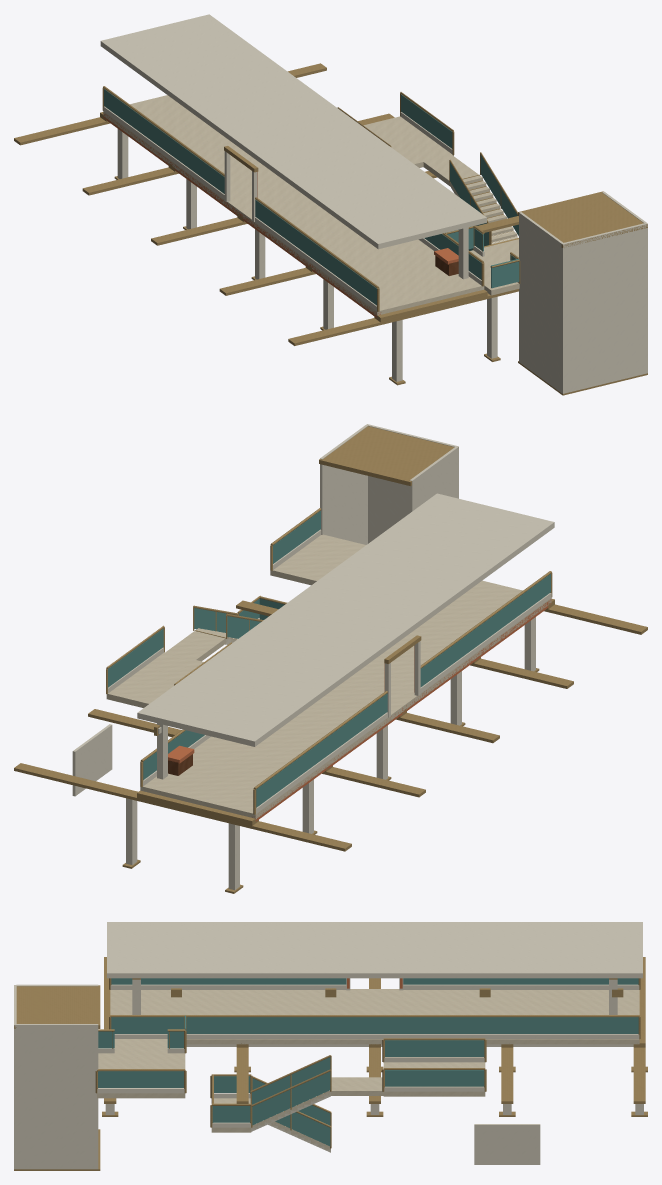
Rendered from AST-TRM-G4-030_aftmid_upper_receiving_r001.glb.
3 views of the same model, one above another, from view 1: azimuth 30°, elevation 25°; view 2: azimuth 150°, elevation 25°; view 3: azimuth 270°, elevation 25° (orthographic). The views are drawn at different scales.
Parts seen in each view (by area): view 1: Aftmid_V2__Canopy_Profiled_Crown, Aftmid_V2__Boarding_Island_24m, Aftmid_V2__BoardingLift_Rear, Aftmid_V2__BoardingLift_HousingSide_-3.5, Aftmid_V2__BoardingLift_Header, Aftmid_V2__Tram_NorthGuard_infill, Aftmid_V2__Tram_SouthGuard_infill, Aftmid_V2__Emergency_TopApproach, Aftmid_V2__Platform_InnerFascia, Aftmid_V2_Foremid_Beam_0, Aftmid_V2_Foremid_Beam_1, Aftmid_V2_Foremid_Beam_4 (+15 smaller); view 2: Aftmid_V2__Canopy_Profiled_Crown, Aftmid_V2__Boarding_Island_24m, Aftmid_V2__BoardingLift_Header, Aftmid_V2__BoardingLift_HousingSide_-7.7, Aftmid_V2_Foremid_Beam_4, Aftmid_V2__Tram_SouthGuard_infill, Aftmid_V2__Emergency_TopApproach, Aftmid_V2__Tram_NorthGuard_infill, Aftmid_V2__BoardingLift_UpperLanding, Aftmid_V2__BoardingLift_Rear, Aftmid_V2__BoardingLift_HousingSide_-3.5, Aftmid_V2_Foremid_GuestWaitingScreen (+14 smaller); view 3: Aftmid_V2__Canopy_Profiled_Crown, Aftmid_V2__Boarding_Island_24m, Aftmid_V2__BoardingLift_HousingSide_-7.7, Aftmid_V2__Port_Edge_infill, Aftmid_V2__BoardingLift_Header, Aftmid_V2_Foremid_GuestWaitingScreen, Aftmid_V2__Port_Edge_foot, Aftmid_V2__BoardingLift_UpperLanding, Aftmid_V2__Upper_Approach_Inner_infill, Aftmid_V2__Upper_Approach_Outer_infill, Aftmid_V2__Tram_NorthGuard_infill, Aftmid_V2__Tram_SouthGuard_infill (+23 smaller).
Part boxes in pixels (x1,y1,x2,y2): Aftmid_V2__Canopy_Profiled_Crown: (100, 14, 486, 249); Aftmid_V2__Boarding_Island_24m: (103, 95, 484, 315); Aftmid_V2__BoardingLift_Rear: (561, 222, 647, 393); Aftmid_V2__BoardingLift_HousingSide_-3.5: (519, 212, 563, 392); Aftmid_V2__BoardingLift_Header: (518, 191, 647, 247); Aftmid_V2__Tram_NorthGuard_infill: (255, 200, 376, 305); Aftmid_V2__Tram_SouthGuard_infill: (104, 89, 224, 193); Aftmid_V2__Emergency_TopApproach: (363, 116, 453, 167); Aftmid_V2__Platform_InnerFascia: (103, 113, 381, 318); Aftmid_V2_Foremid_Beam_0: (288, 289, 518, 345); Aftmid_V2_Foremid_Beam_1: (219, 216, 518, 295); Aftmid_V2_Foremid_Beam_4: (14, 63, 326, 145); Aftmid_V2__Canopy_Profiled_Crown: (137, 493, 554, 746); Aftmid_V2__Boarding_Island_24m: (140, 580, 551, 819); Aftmid_V2__BoardingLift_Header: (319, 426, 454, 486); Aftmid_V2__BoardingLift_HousingSide_-7.7: (320, 425, 367, 544); Aftmid_V2_Foremid_Beam_4: (14, 763, 351, 851); Aftmid_V2__Tram_SouthGuard_infill: (256, 693, 387, 807); Aftmid_V2__Emergency_TopApproach: (106, 652, 203, 707); Aftmid_V2__Tram_NorthGuard_infill: (420, 574, 550, 686); Aftmid_V2__BoardingLift_UpperLanding: (270, 534, 365, 585); Aftmid_V2__BoardingLift_Rear: (366, 424, 458, 543); Aftmid_V2__BoardingLift_HousingSide_-3.5: (409, 446, 457, 512); Aftmid_V2_Foremid_GuestWaitingScreen: (72, 724, 112, 796); Aftmid_V2__Canopy_Profiled_Crown: (107, 922, 642, 978); Aftmid_V2__Boarding_Island_24m: (110, 989, 639, 1044); Aftmid_V2__BoardingLift_HousingSide_-7.7: (16, 1024, 98, 1169); Aftmid_V2__Port_Edge_infill: (111, 1017, 638, 1033); Aftmid_V2__BoardingLift_Header: (14, 985, 100, 1028); Aftmid_V2_Foremid_GuestWaitingScreen: (474, 1124, 540, 1164); Aftmid_V2__Port_Edge_foot: (114, 1034, 639, 1038); Aftmid_V2__BoardingLift_UpperLanding: (97, 1052, 185, 1098); Aftmid_V2__Upper_Approach_Inner_infill: (385, 1070, 484, 1086); Aftmid_V2__Upper_Approach_Outer_infill: (385, 1040, 484, 1056); Aftmid_V2__Tram_NorthGuard_infill: (111, 978, 346, 984); Aftmid_V2__Tram_SouthGuard_infill: (403, 978, 638, 984).
Size of the model in its own units: 15.55 by 7.3 by 28.74.
Materials: 6 (4 with a texture image).
